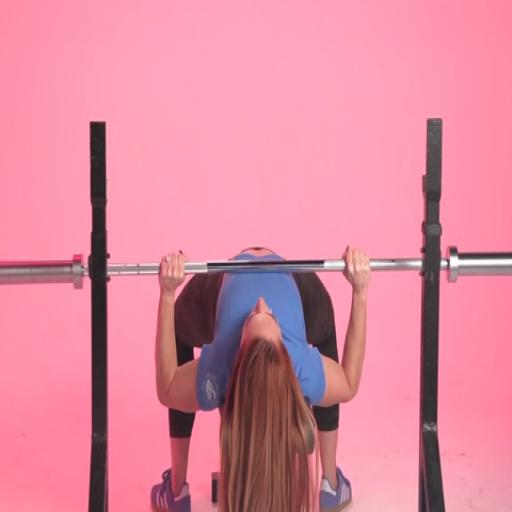exercise: (150, 243, 372, 511)
